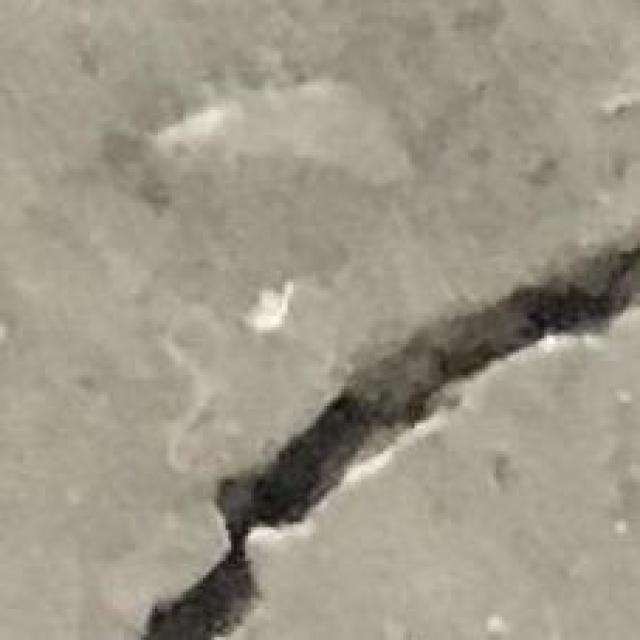diagonal crack: (146, 233, 639, 639)
